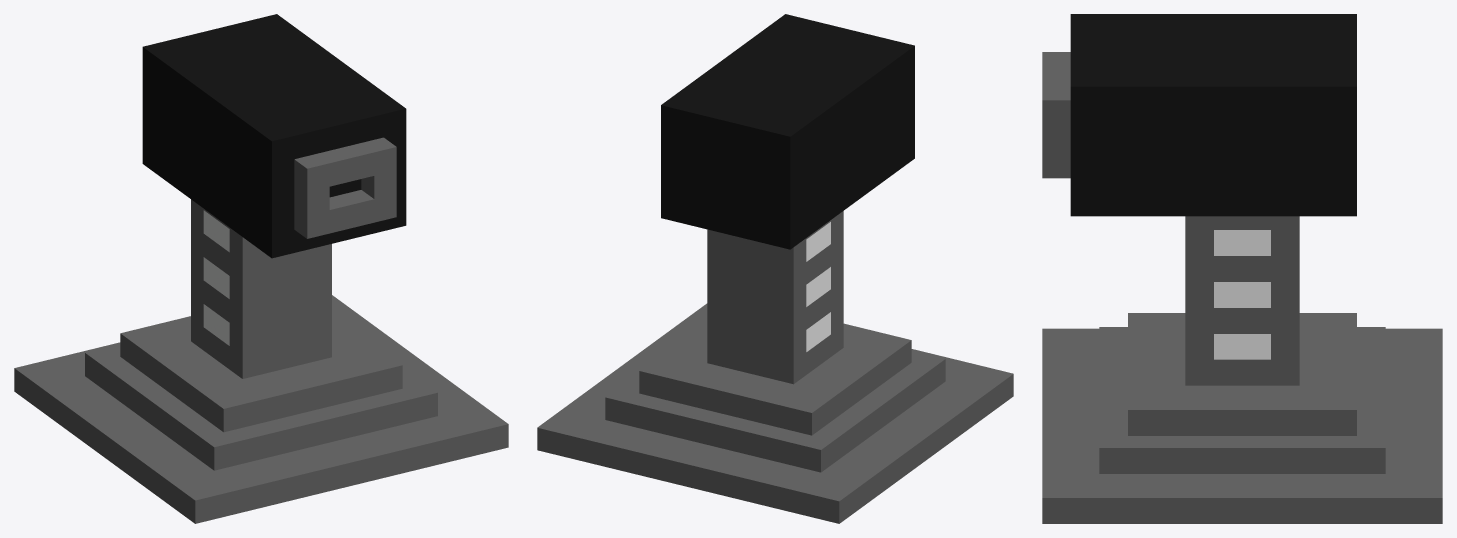
The model's file is Cannon.obj.
The picture shows the model from 3 angles, left to right: view 1: azimuth 30°, elevation 25°; view 2: azimuth 150°, elevation 25°; view 3: azimuth 270°, elevation 25°; orthographic projection. The views are drawn at different scales.
Bounding box in the file's own units: 1.4 × 1.5 × 1.4.
Materials: 1 (1 with a texture image).
